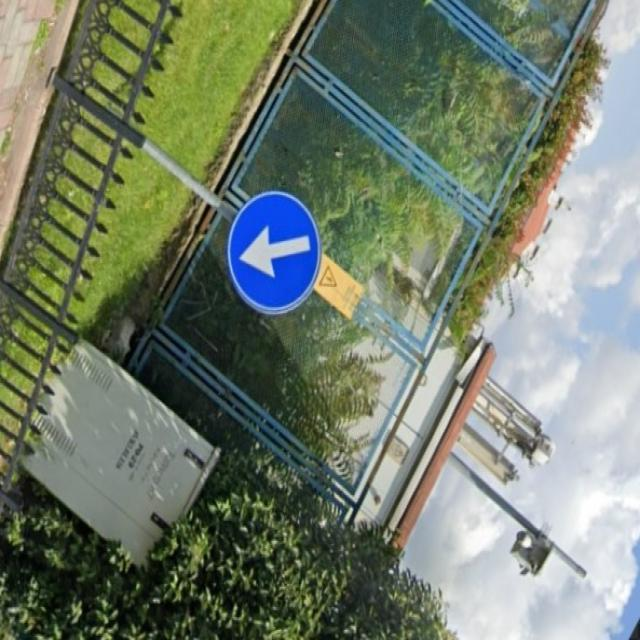Turn Left: (226, 193, 321, 313)
